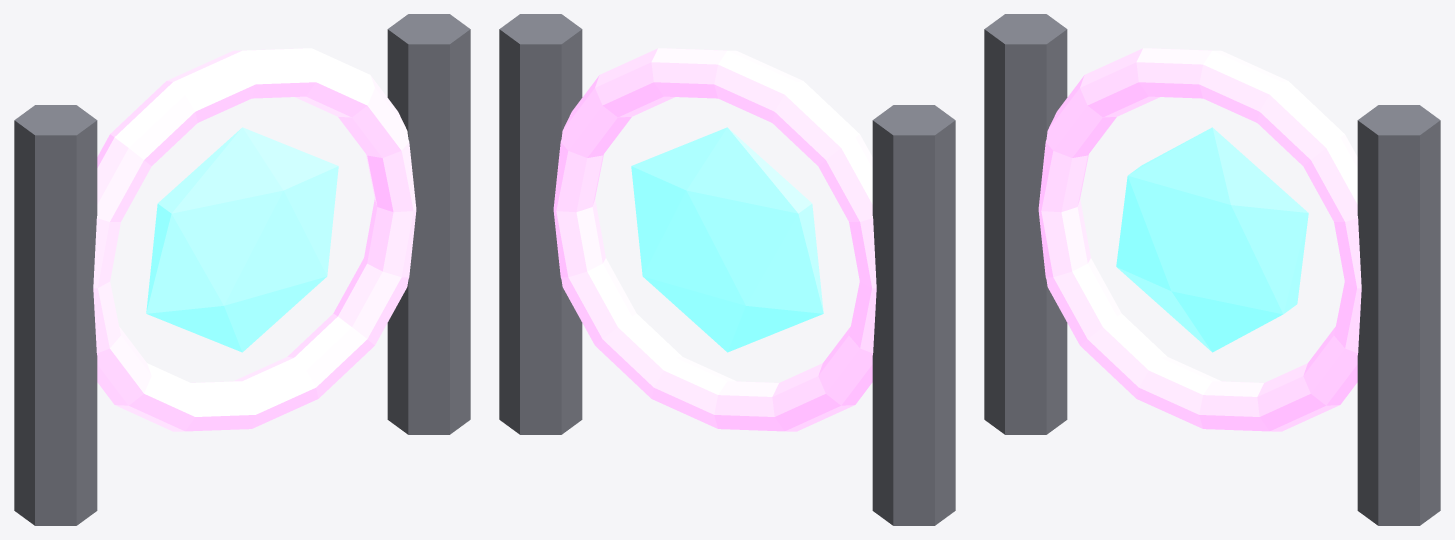
Rendered from portal_gate.glb.
3 views of the same model, side by side, from view 1: azimuth 30°, elevation 25°; view 2: azimuth 150°, elevation 25°; view 3: azimuth 330°, elevation 25° (orthographic).
Visible parts, largest first — view 1: PortalRing, PortalPillarL, PortalCore, PortalPillarR; view 2: PortalRing, PortalPillarL, PortalCore, PortalPillarR; view 3: PortalRing, PortalPillarR, PortalPillarL, PortalCore.
Part boxes in pixels (<box>): PortalRing: <box>93,48,416,431</box>; PortalPillarL: <box>14,105,97,525</box>; PortalCore: <box>146,127,338,352</box>; PortalPillarR: <box>387,14,470,434</box>; PortalRing: <box>553,48,876,431</box>; PortalPillarL: <box>872,105,955,525</box>; PortalCore: <box>631,127,823,352</box>; PortalPillarR: <box>499,14,582,434</box>; PortalRing: <box>1038,48,1361,431</box>; PortalPillarR: <box>1357,105,1440,525</box>; PortalPillarL: <box>984,14,1067,434</box>; PortalCore: <box>1116,127,1308,352</box>.
Size of the model in its own units: 3.03 by 2.76 by 0.5.
